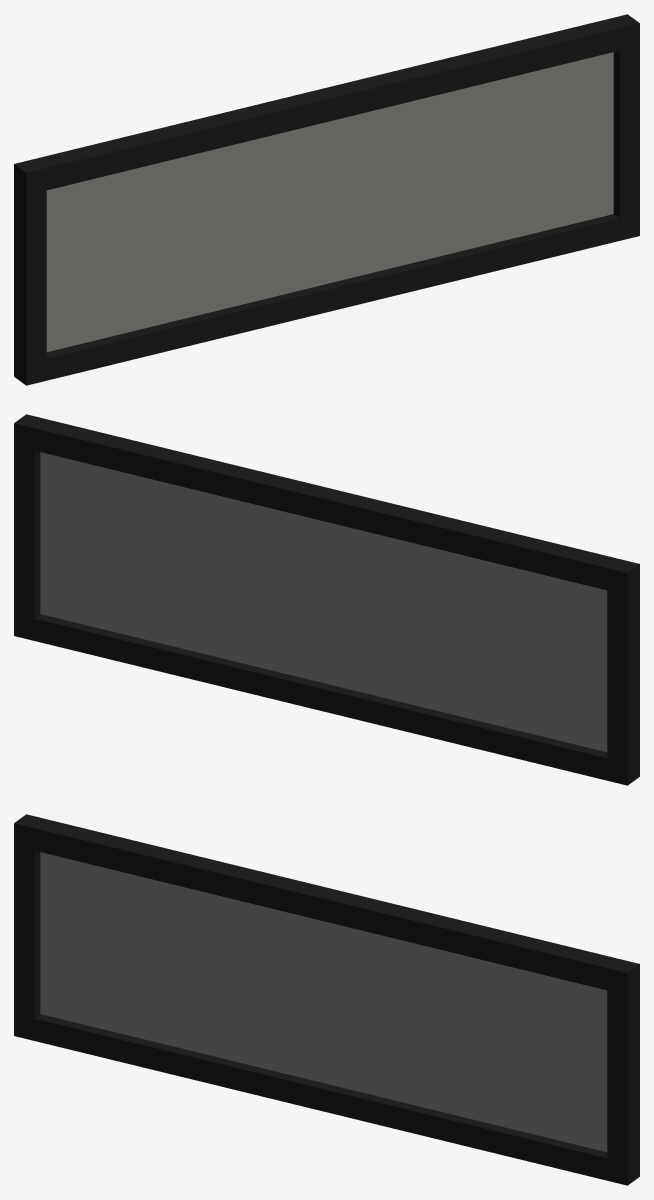
File: LIH0110010.fbx
3 renders of one model, top to bottom at view 1: azimuth 30°, elevation 25°; view 2: azimuth 150°, elevation 25°; view 3: azimuth 330°, elevation 25°, orthographic.
Visible parts, largest first — view 1: smLIH0110010; view 2: smLIH0110010; view 3: smLIH0110010.
Part boxes in pixels (left/top/right/bottom): smLIH0110010: left=14, top=14, right=639, bottom=385; smLIH0110010: left=14, top=414, right=639, bottom=785; smLIH0110010: left=14, top=814, right=639, bottom=1185.
Size of the model in its own units: 199 by 65.9 by 6.94.
Materials: 1 (1 with a texture image).
